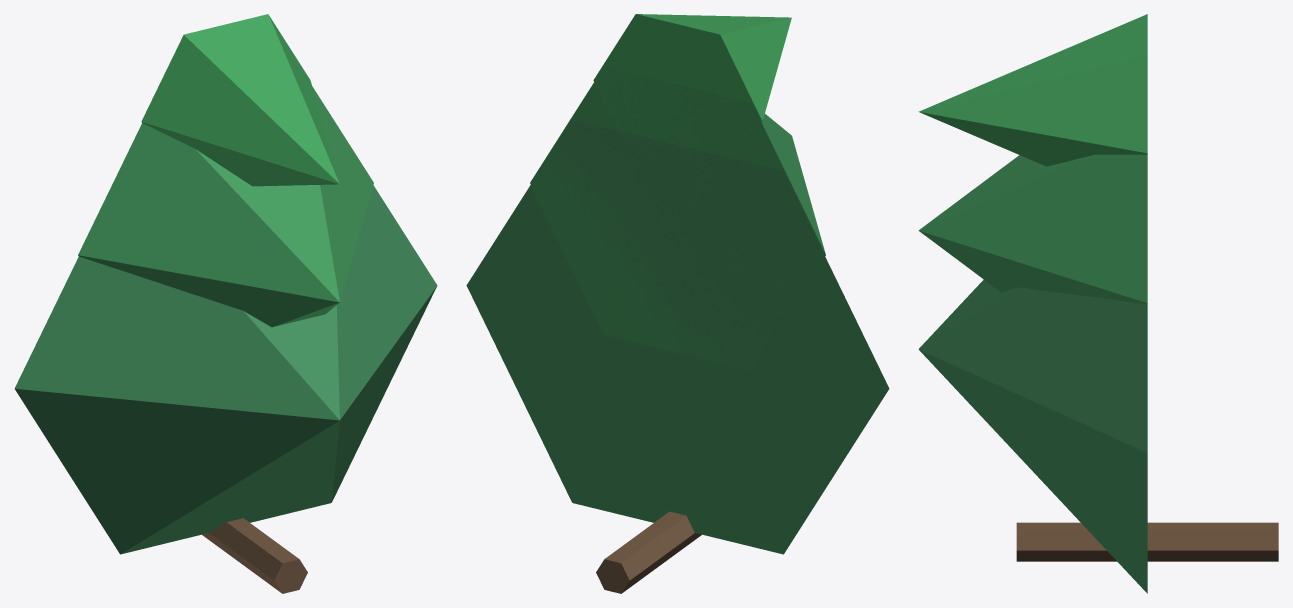
File: tree_pine.glb
3 views of the same model, side by side, from view 1: azimuth 30°, elevation 25°; view 2: azimuth 150°, elevation 25°; view 3: azimuth 270°, elevation 25° (orthographic).
Parts seen in each view (by area): view 1: world; view 2: world; view 3: world.
Part boxes in pixels (x1,y1,x2,y2): world: (14, 14, 437, 593); world: (466, 14, 889, 593); world: (918, 14, 1278, 593).
Size of the model in its own units: 3 by 3.52 by 2.2.
